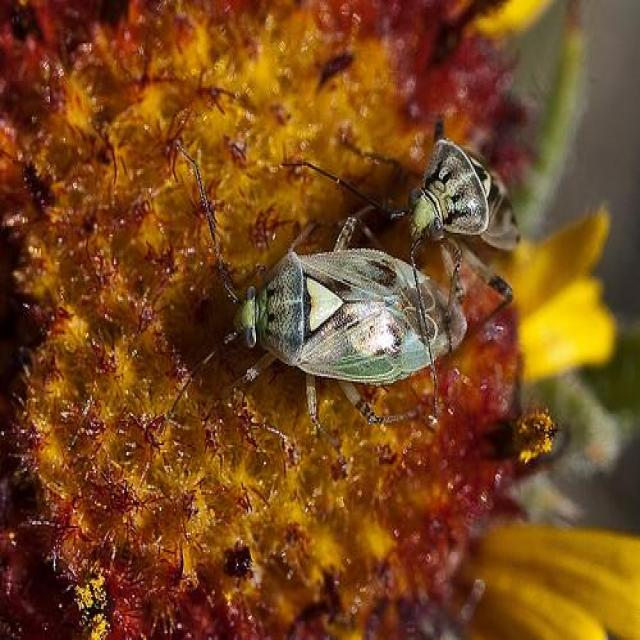Miridae-Adult-: (157, 150, 470, 405)
